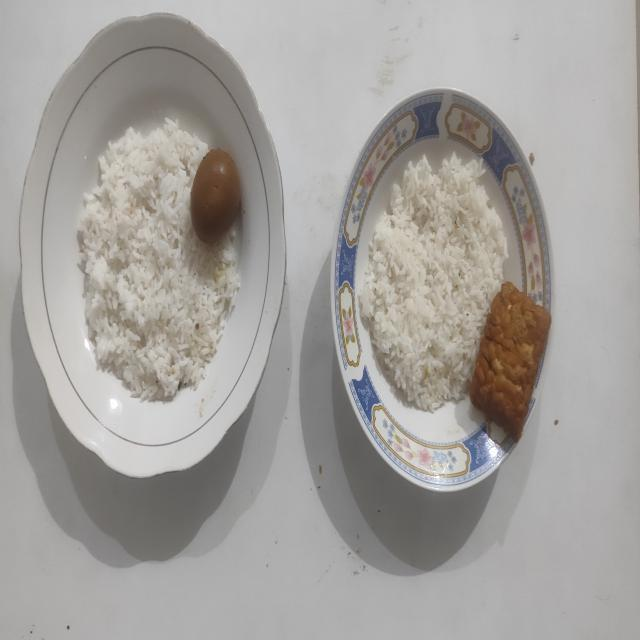nasi_putih: (78, 119, 240, 401), (358, 154, 508, 412)
tempe_goreng: (469, 282, 551, 441)
